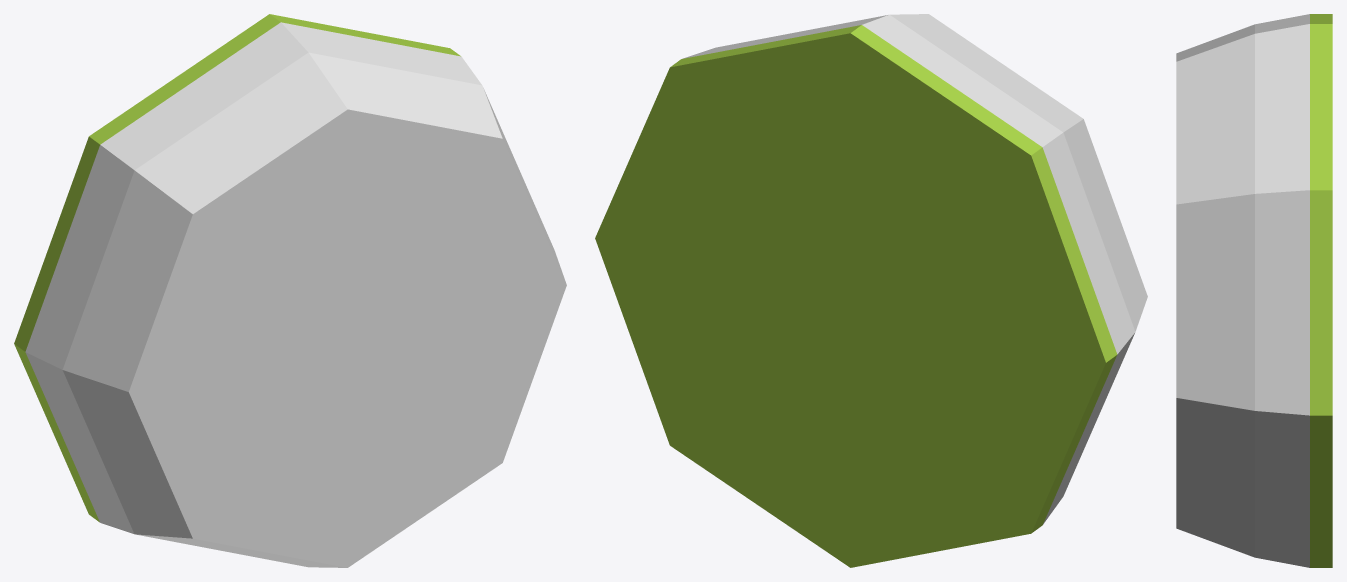
File: terrain 8-gon.fbx
3 renders of one model, left to right at view 1: azimuth 30°, elevation 25°; view 2: azimuth 150°, elevation 25°; view 3: azimuth 270°, elevation 25°, orthographic.
Visible parts, largest first — view 1: Terrain 8-gon; view 2: Terrain 8-gon; view 3: Terrain 8-gon.
Part boxes in pixels (box(x1,y1,x2,y2)): Terrain 8-gon: box(14, 14, 566, 567); Terrain 8-gon: box(595, 14, 1147, 567); Terrain 8-gon: box(1176, 14, 1332, 567).
Size of the model in its own units: 2.97 by 2.97 by 0.7883.
